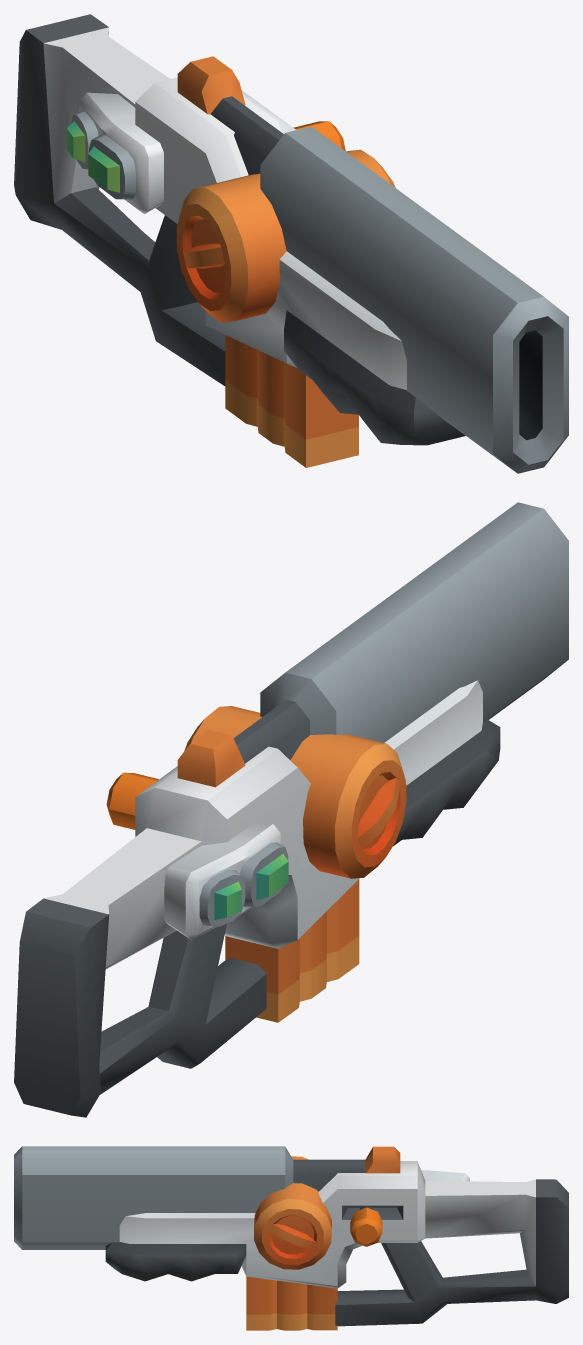
Rendered from weapon_bull.glb.
The picture shows the model from 3 angles, top to bottom: view 1: azimuth 30°, elevation 25°; view 2: azimuth 150°, elevation 25°; view 3: azimuth 270°, elevation 25°; orthographic projection. The views are drawn at different scales.
Parts seen in each view (by area): view 1: SpaceRanger_Rifle; view 2: SpaceRanger_Rifle; view 3: SpaceRanger_Rifle.
Boxes of the visible parts, left/top/right/bottom form: SpaceRanger_Rifle: left=14, top=14, right=568, bottom=473; SpaceRanger_Rifle: left=14, top=502, right=568, bottom=1117; SpaceRanger_Rifle: left=14, top=1146, right=568, bottom=1330.
Bounding box in the file's own units: 0.3785 × 0.5418 × 1.57.
1 material, 1 textured.
